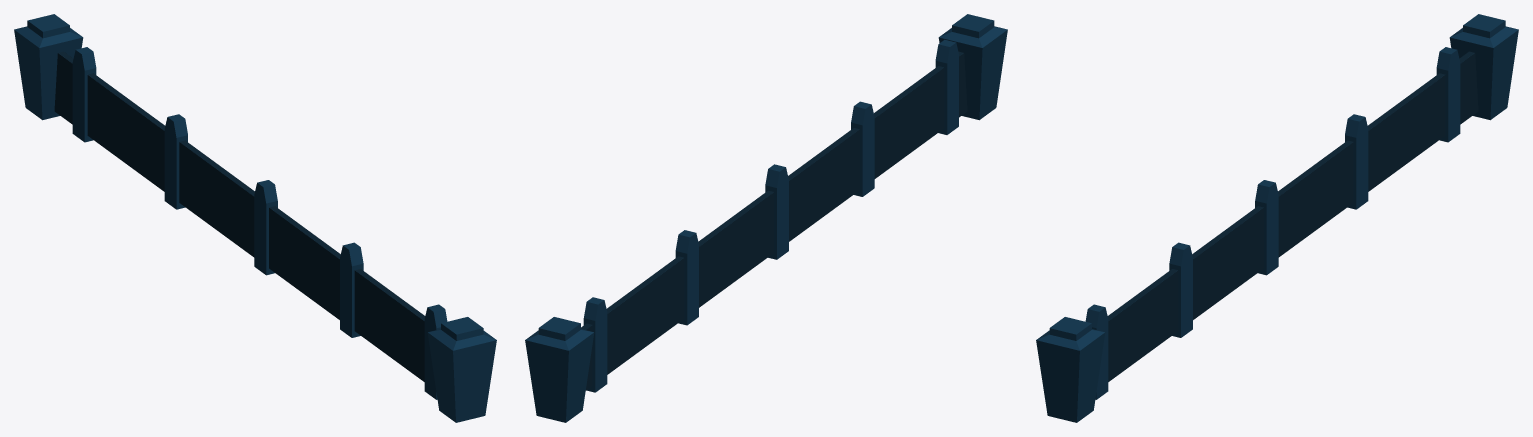
Rendered from tuong thanh.fbx.
The picture shows the model from 3 angles, left to right: view 1: azimuth 30°, elevation 25°; view 2: azimuth 150°, elevation 25°; view 3: azimuth 330°, elevation 25°; orthographic projection.
Visible parts, largest first — view 1: tường thành ngoai, Cube, Cube.005, Cube.006, Cube.004, Cube.003, Cube.002, Cube.001; view 2: tường thành ngoai, Cube.005, Cube, Cube.006, Cube.003, Cube.002, Cube.001, Cube.004; view 3: tường thành ngoai, Cube, Cube.005, Cube.006, Cube.004, Cube.003, Cube.002, Cube.001.
Part boxes in pixels (left/top/right/bottom): tường thành ngoai: left=54, top=51, right=425, bottom=381; Cube: left=427, top=317, right=496, bottom=422; Cube.005: left=14, top=14, right=83, bottom=120; Cube.006: left=72, top=47, right=96, bottom=142; Cube.004: left=164, top=114, right=187, bottom=209; Cube.003: left=254, top=180, right=277, bottom=275; Cube.002: left=340, top=242, right=363, bottom=337; Cube.001: left=424, top=304, right=447, bottom=399; tường thành ngoai: left=581, top=51, right=967, bottom=390; Cube.005: left=525, top=317, right=594, bottom=422; Cube: left=938, top=14, right=1007, bottom=120; Cube.006: left=583, top=297, right=607, bottom=392; Cube.003: left=765, top=164, right=788, bottom=259; Cube.002: left=851, top=101, right=874, bottom=196; Cube.001: left=935, top=39, right=958, bottom=134; Cube.004: left=675, top=230, right=698, bottom=325; tường thành ngoai: left=1107, top=51, right=1478, bottom=381; Cube: left=1036, top=317, right=1105, bottom=422; Cube.005: left=1449, top=14, right=1518, bottom=120; Cube.006: left=1436, top=47, right=1460, bottom=142; Cube.004: left=1345, top=114, right=1368, bottom=209; Cube.003: left=1255, top=180, right=1278, bottom=275; Cube.002: left=1169, top=242, right=1192, bottom=337; Cube.001: left=1085, top=304, right=1108, bottom=399.
Bounding box in the file's own units: 755 × 13060 × 1437.
